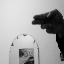h: (30, 8, 64, 35)
